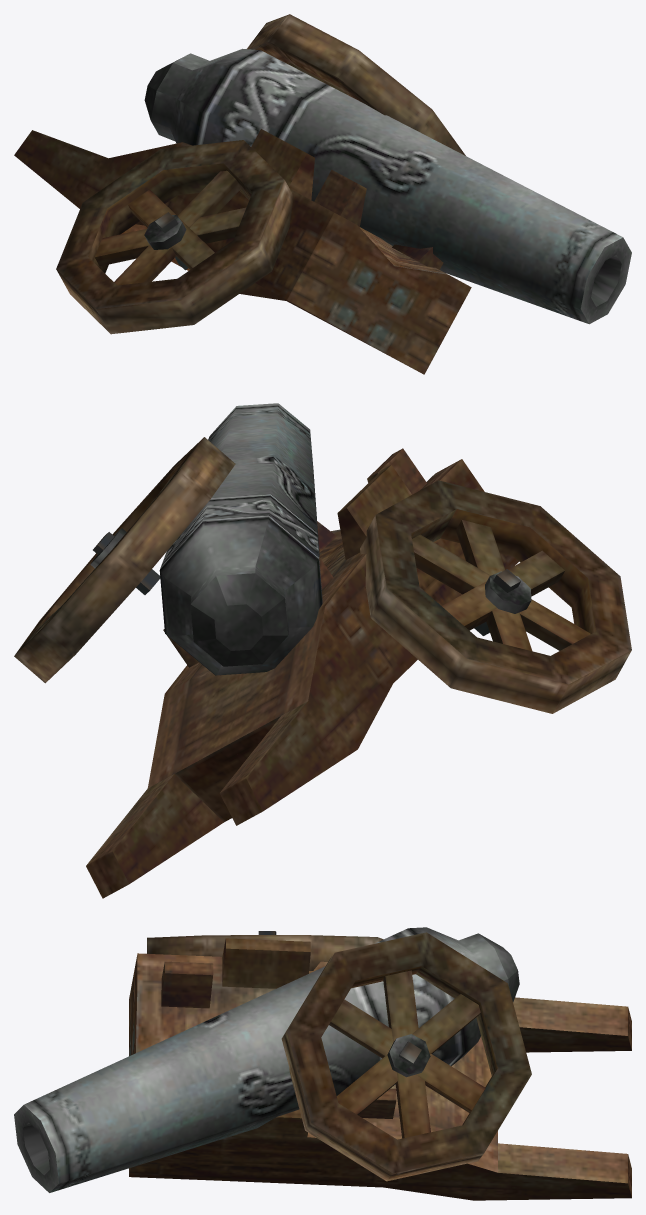
File: b_general_obj_05_1.fbx
The picture shows the model from 3 angles, top to bottom: view 1: azimuth 30°, elevation 25°; view 2: azimuth 150°, elevation 25°; view 3: azimuth 270°, elevation 25°; orthographic projection. The views are drawn at different scales.
Parts seen in each view (by area): view 1: Sphere01; view 2: Sphere01; view 3: Sphere01.
Part boxes in pixels (box(x1,y1,x2,y2)): Sphere01: box(14, 14, 631, 374); Sphere01: box(14, 403, 631, 898); Sphere01: box(14, 927, 631, 1200).
Bounding box in the file's own units: 2.55 × 1.55 × 3.02.
